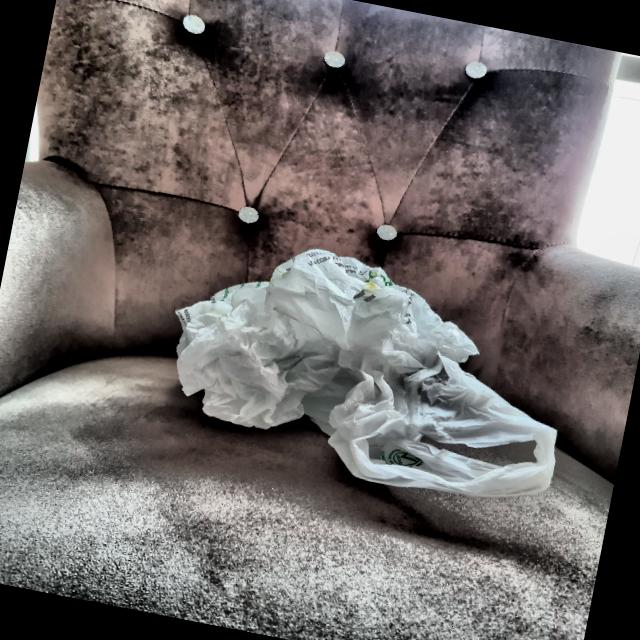plastic bag: (152, 225, 586, 520)
